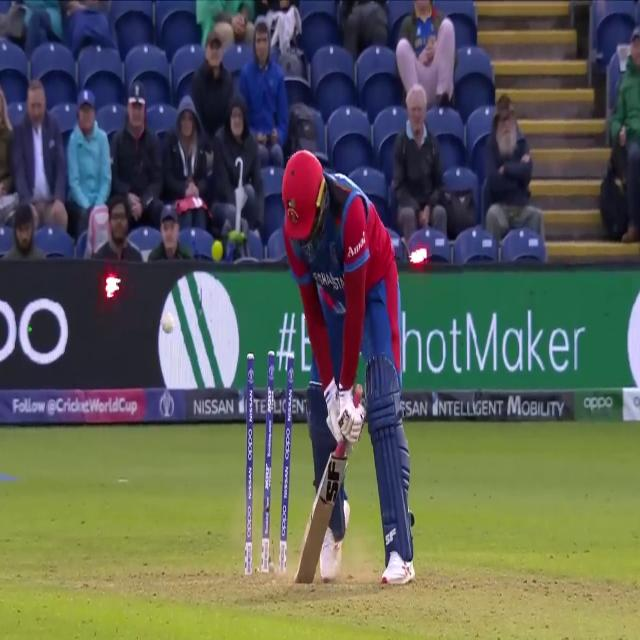ball: (158, 308, 177, 334)
